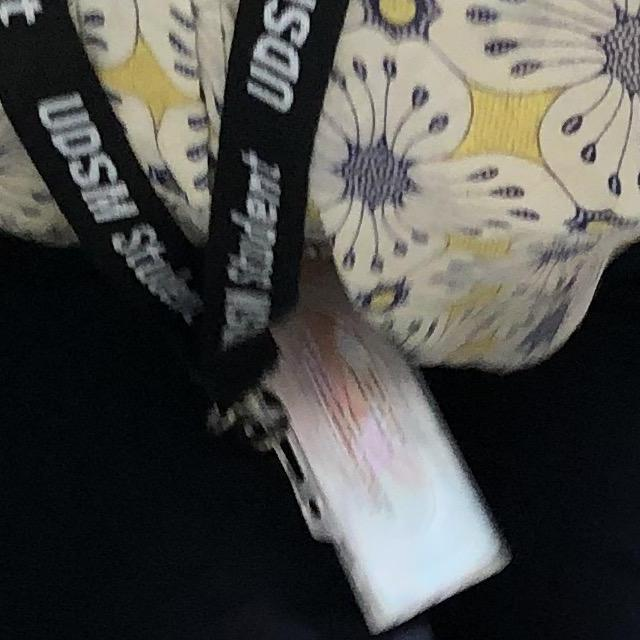NO-Safety Vest: (0, 0, 640, 362)
Person: (0, 0, 640, 640)
